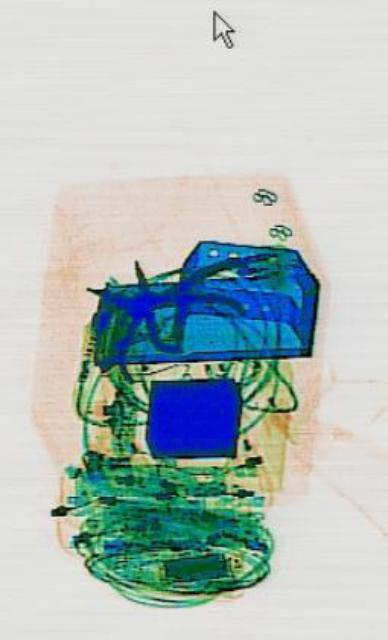Pliers: (69, 186, 244, 442)
